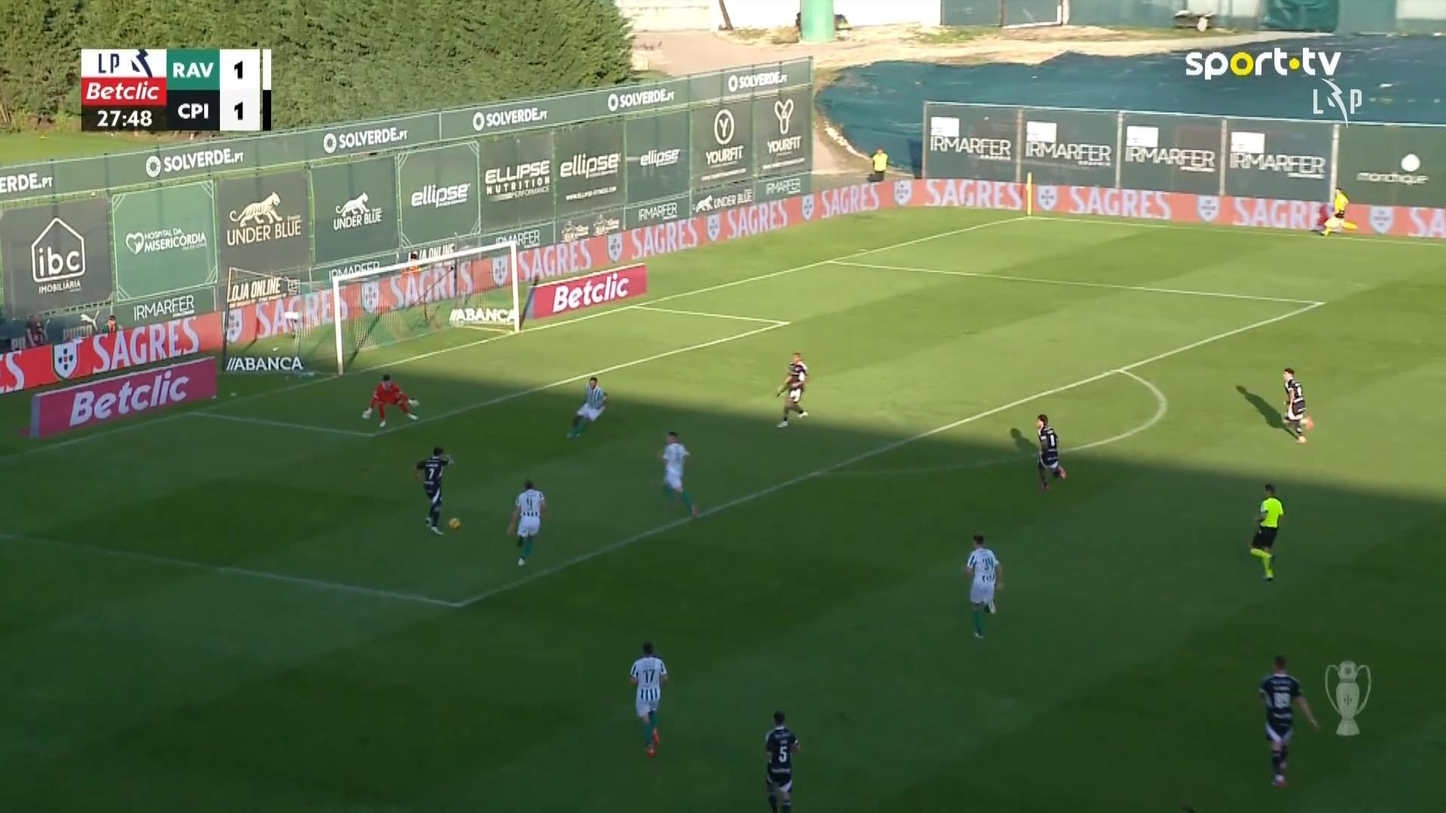ball: (1400, 153, 1420, 172), (448, 517, 462, 530)
goalkeeper: (361, 373, 419, 428)
player: (1257, 653, 1320, 787), (628, 641, 668, 757), (962, 533, 1004, 638), (657, 430, 699, 519), (763, 710, 800, 811), (413, 446, 453, 535), (506, 479, 546, 566), (774, 350, 809, 428), (566, 375, 607, 439), (1034, 413, 1066, 492), (1281, 367, 1312, 443)
referee: (1249, 483, 1284, 580), (1318, 185, 1355, 235)
